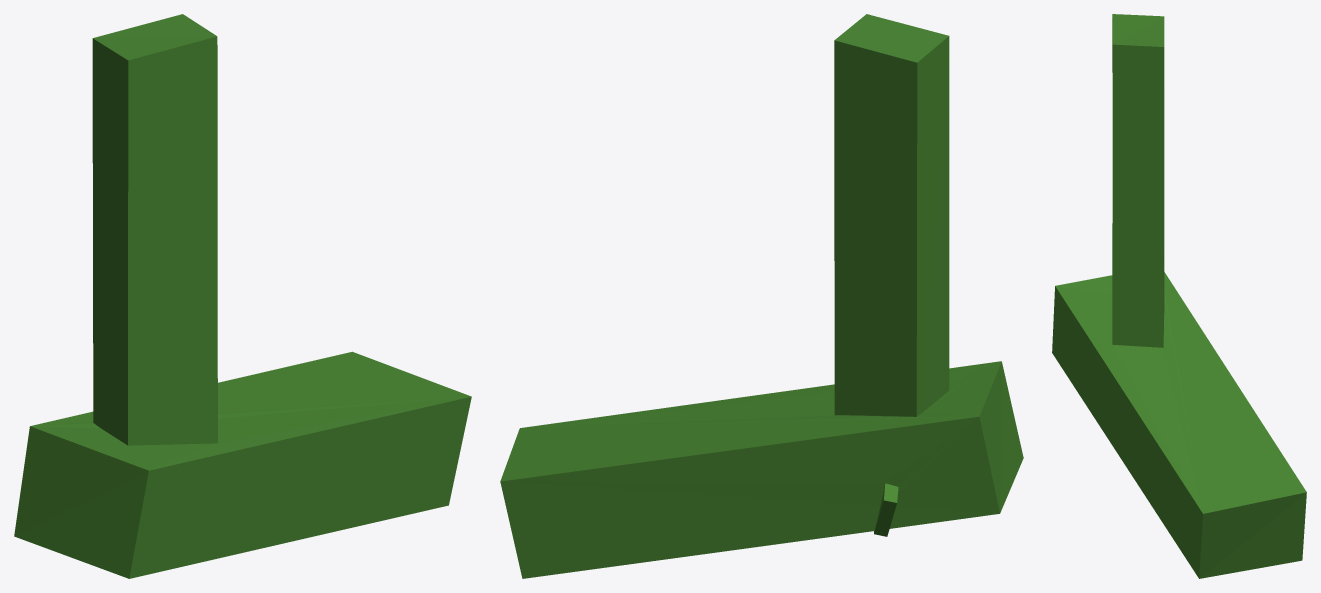
The picture shows the model from 3 angles, left to right: view 1: azimuth 30°, elevation 25°; view 2: azimuth 150°, elevation 25°; view 3: azimuth 270°, elevation 25°; orthographic projection. The views are drawn at different scales.
Parts seen in each view (by area): view 1: 946_Cube.3826; view 2: 946_Cube.3826; view 3: 946_Cube.3826.
Part boxes in pixels (x1,y1,x2,y2): 946_Cube.3826: (14,14,471,578); 946_Cube.3826: (500,14,1023,578); 946_Cube.3826: (1052,14,1306,578).
Bounding box in the file's own units: 12.67 × 14.4 × 7.74.
